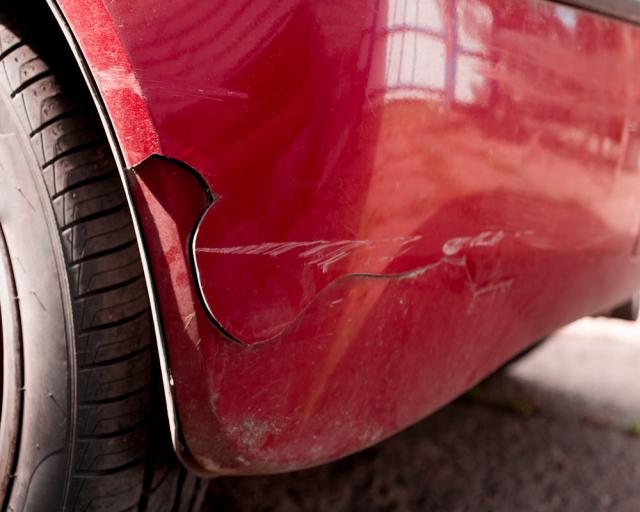crack: (129, 152, 468, 348)
scratch: (198, 226, 535, 270)
